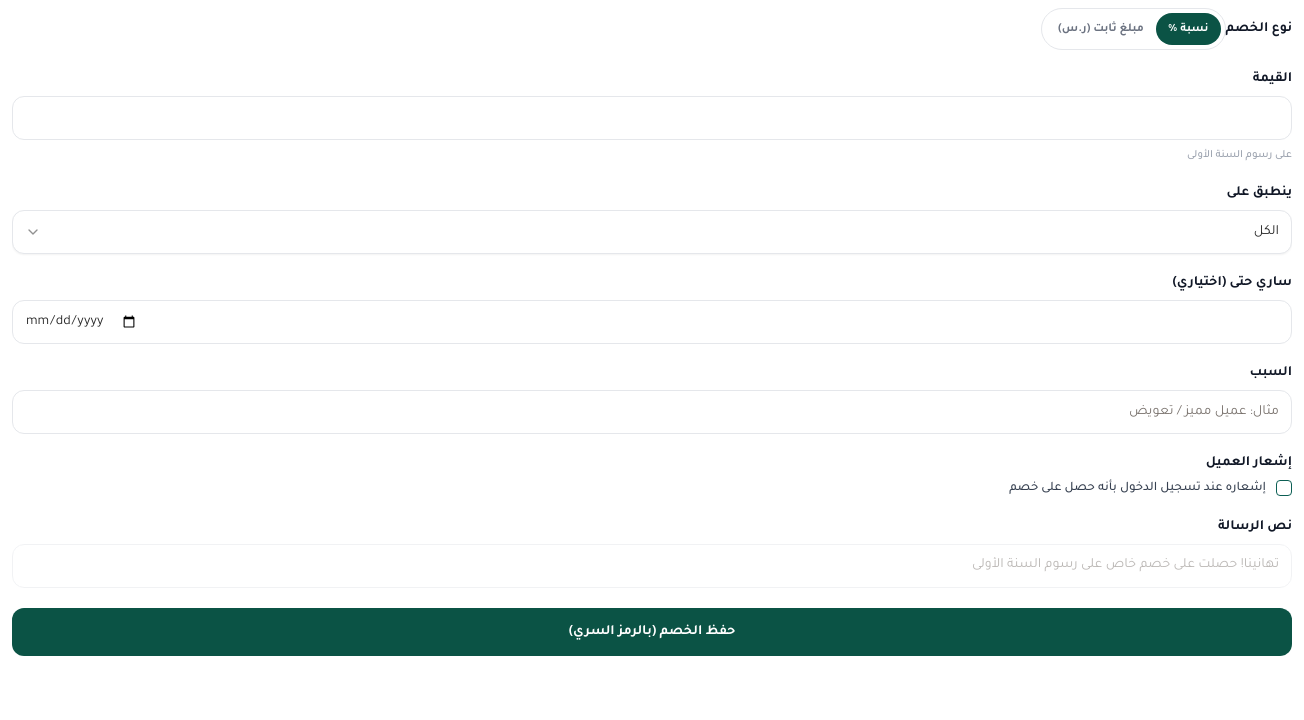
Test: ClientDiscountForm — notify-on-login checkbox › blocks submit with a validation message when notify is on but the message is empty
The width and height of the screenshot is (1304, 720).
Type "10" into the number field labelled "القيمة" at (652, 118), box 12,96 -> 1292,140
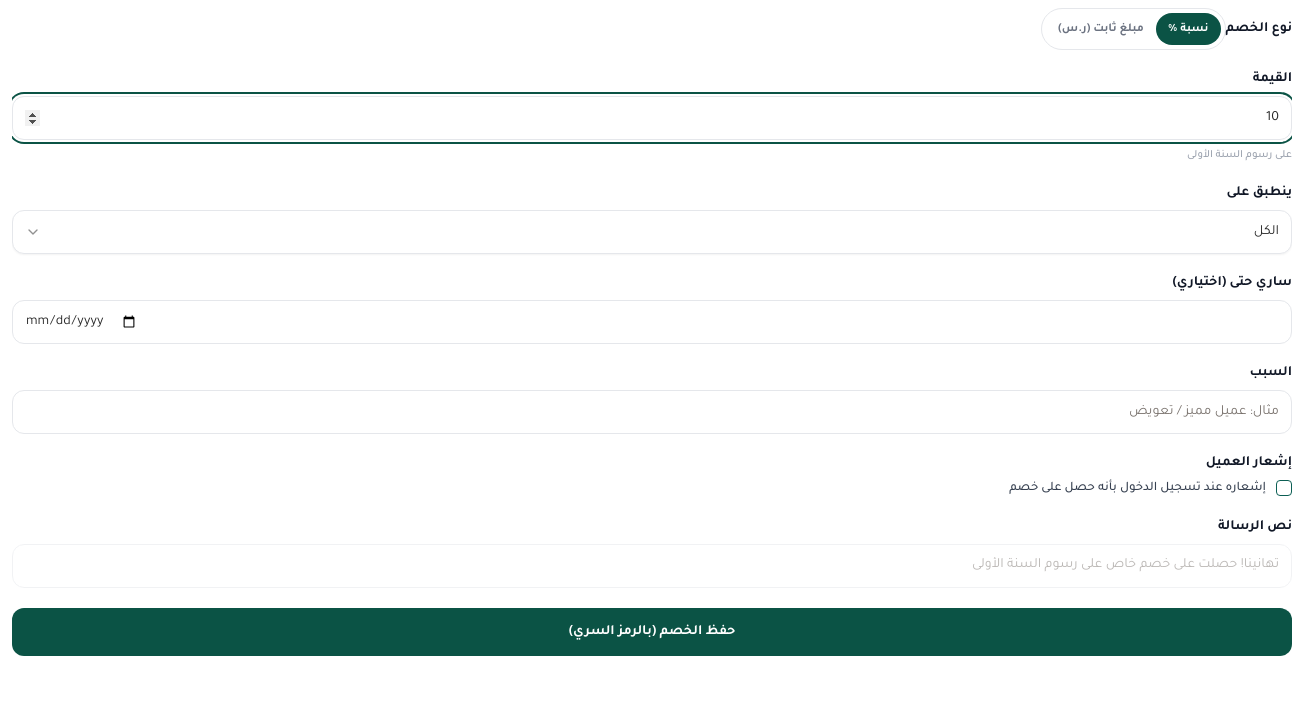
Type "عميل مميز" into the field labelled "السبب" at (652, 412), box 12,390 -> 1292,434
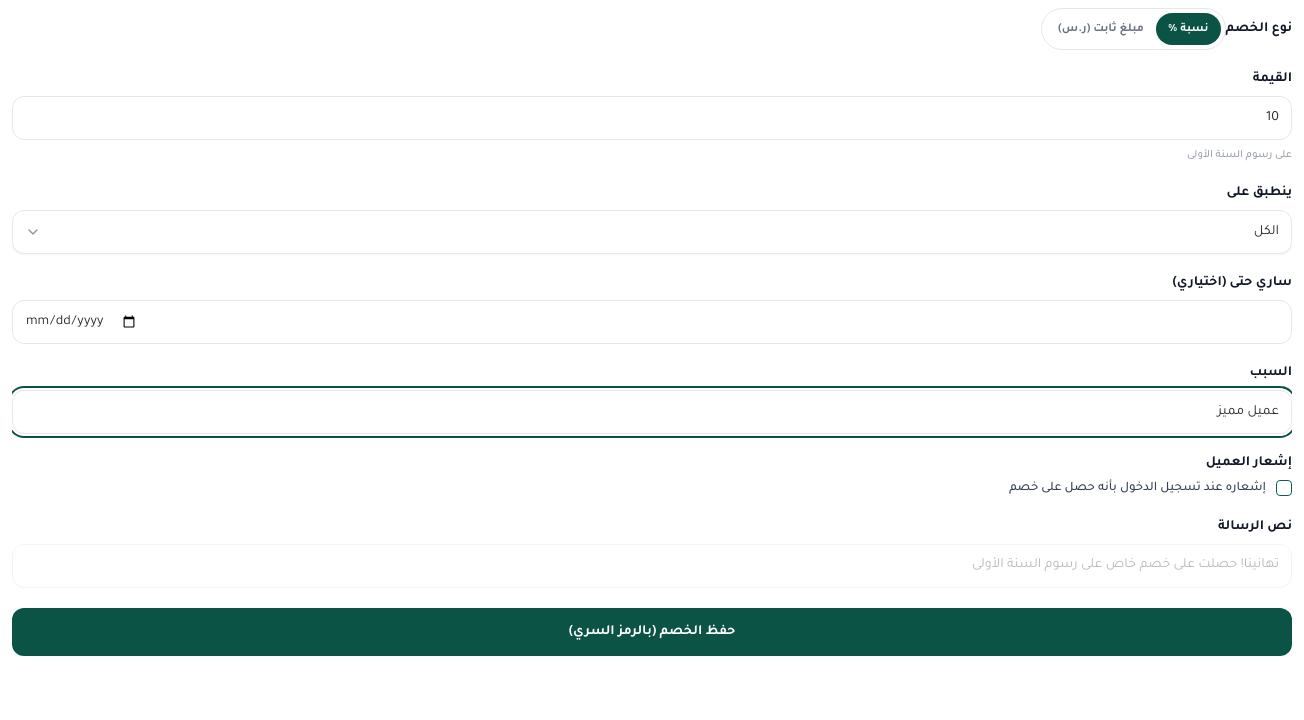
Click the checkbox named "إشعار العميل" at (1284, 488), box 1276,480 -> 1292,496
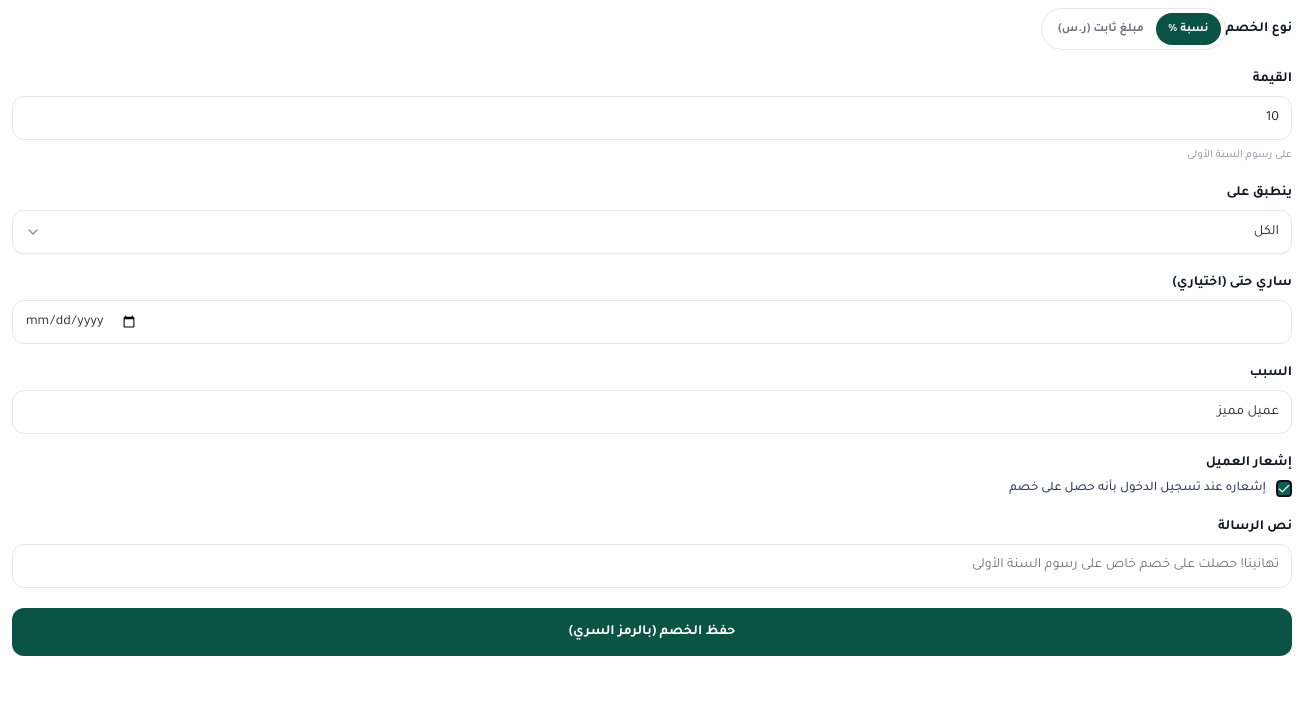
Click the button "حفظ الخصم (بالرمز السري)" at (652, 632), box 12,608 -> 1292,656
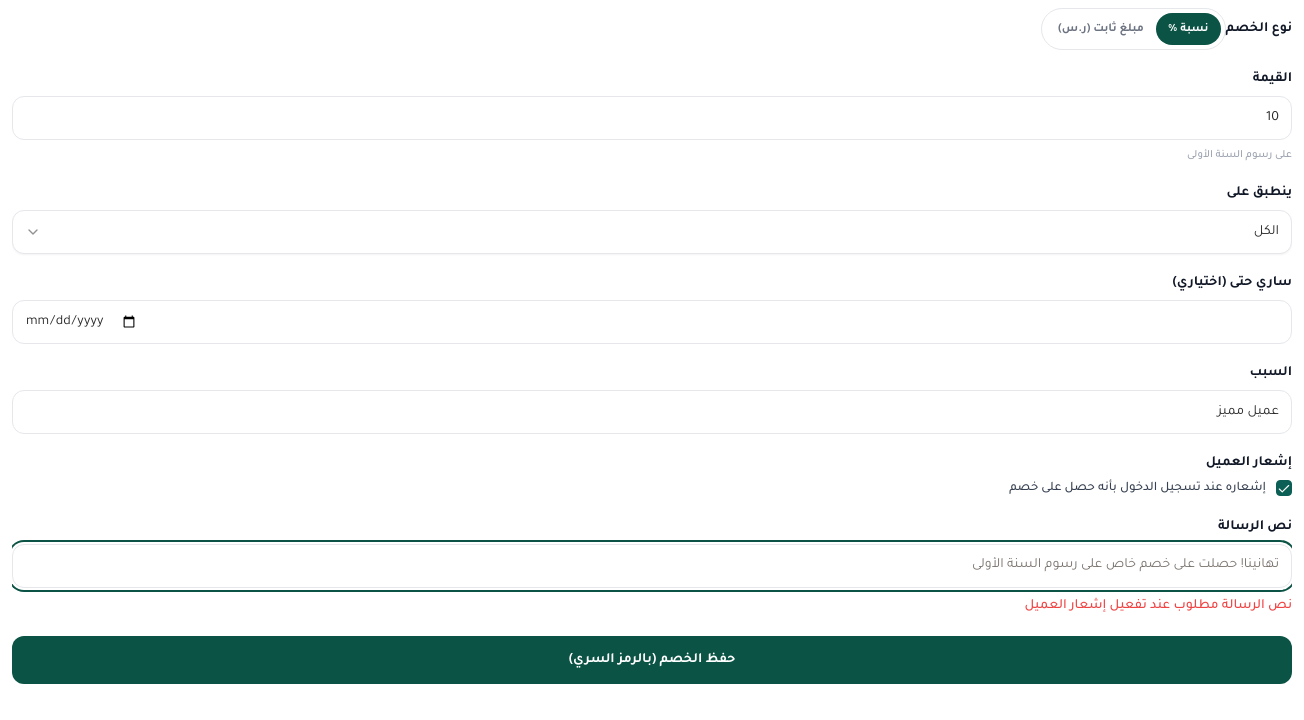
Expected: the text "نص الرسالة مطلوب عند تفعيل إشعار العميل" is shown, 1024,599 -> 1292,613
